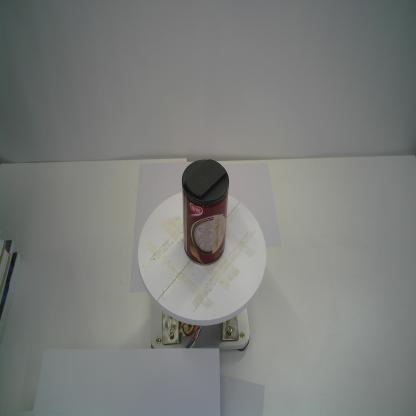Canned Food: (177, 157, 232, 268)
